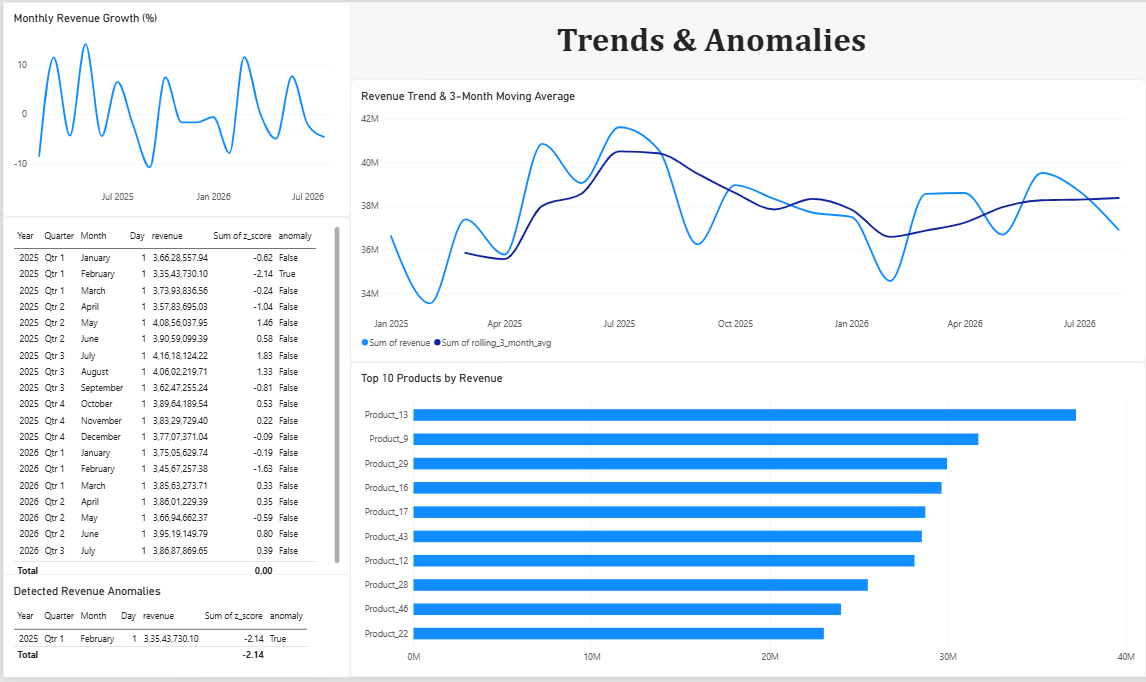

What the dashboard file says about the page in this screenshot:
{"tool":"powerbi","page":{"name":"Trends & Anomalies","canvas":[1920,1080],"ordinal":1},"visuals":[{"type":"lineChart","title":"Monthly Revenue Growth (%)","fields":{"Category":["trends_analysis.month"],"Y":["Sum(trends_analysis.mom_growth_pct)"]},"box":[0,0,556.7,343.3],"z":0},{"type":"tableEx","fields":{"Values":["trends_analysis.month.Variation.Date Hierarchy.Year","trends_analysis.month.Variation.Date Hierarchy.Quarter","trends_analysis.month.Variation.Date Hierarchy.Month","trends_analysis.month.Variation.Date Hierarchy.Day","trends_analysis.revenue","Sum(trends_analysis.z_score)","trends_analysis.anomaly"]},"box":[0,318,556,622],"z":1000},{"type":"tableEx","title":"Detected Revenue Anomalies","fields":{"Values":["trends_analysis.month.Variation.Date Hierarchy.Year","trends_analysis.month.Variation.Date Hierarchy.Quarter","trends_analysis.month.Variation.Date Hierarchy.Month","trends_analysis.month.Variation.Date Hierarchy.Day","trends_analysis.revenue","Sum(trends_analysis.z_score)","trends_analysis.anomaly"]},"box":[0,915,555,165],"z":2000},{"type":"lineChart","title":"Revenue Trend & 3-Month Moving Average","fields":{"Category":["monthly_revenue.month"],"Y":["Sum(monthly_revenue.revenue)","Sum(trends_analysis.rolling_3_month_avg)"]},"box":[556,0,1272,540],"z":3000},{"type":"clusteredBarChart","title":"Top 10 Products by Revenue","fields":{"Category":["top_products.product_name"],"Y":["Sum(top_products.revenue)"]},"box":[555,540,1272.5,540],"z":4000}]}

Visuals, with their boxes on the page's 1920x1080 design canvas (x1, y1, x2, y2). These are canvas units, not pixel positions in the 1146x682 screenshot, which may show the page scaled, cropped or inside an application window:
"Monthly Revenue Growth (%)" lineChart: select_region(0, 0, 557, 343)
tableEx - trends_analysis.month.Variation.Date Hierarchy.Year x trends_analysis.month.Variation.Date Hierarchy.Quarter: select_region(0, 318, 556, 940)
"Detected Revenue Anomalies" tableEx: select_region(0, 915, 555, 1080)
"Revenue Trend & 3-Month Moving Average" lineChart: select_region(556, 0, 1828, 540)
"Top 10 Products by Revenue" clusteredBarChart: select_region(555, 540, 1828, 1080)
